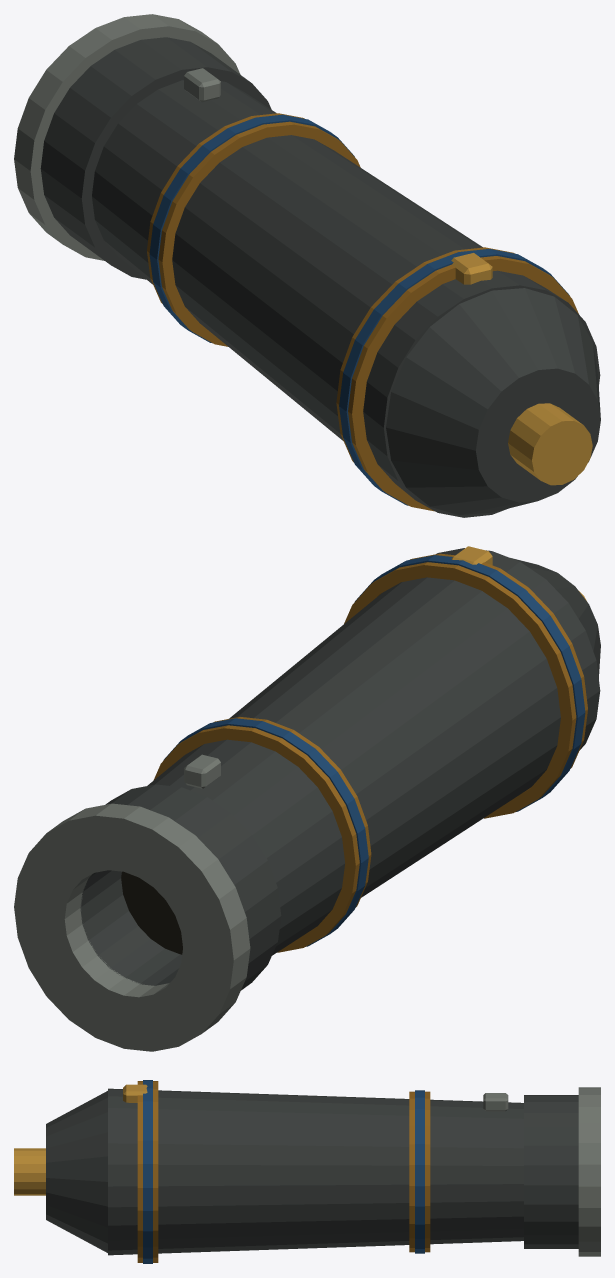
Rendered from barrel.glb.
3 views of the same model, one above another, from view 1: azimuth 30°, elevation 25°; view 2: azimuth 150°, elevation 25°; view 3: azimuth 270°, elevation 25° (orthographic). The views are drawn at different scales.
Parts seen in each view (by area): view 1: Metal, Fabric; view 2: Metal, Fabric, Stone; view 3: Metal, Fabric.
Part boxes in pixels (x1,y1,x2,y2): Metal: [14, 14, 600, 517]; Fabric: [149, 114, 569, 505]; Metal: [14, 546, 600, 1051]; Fabric: [163, 555, 585, 946]; Stone: [121, 871, 182, 954]; Metal: [14, 1081, 600, 1262]; Fabric: [143, 1080, 424, 1263].
Size of the model in its own units: 1.41 by 1.42 by 4.49.
